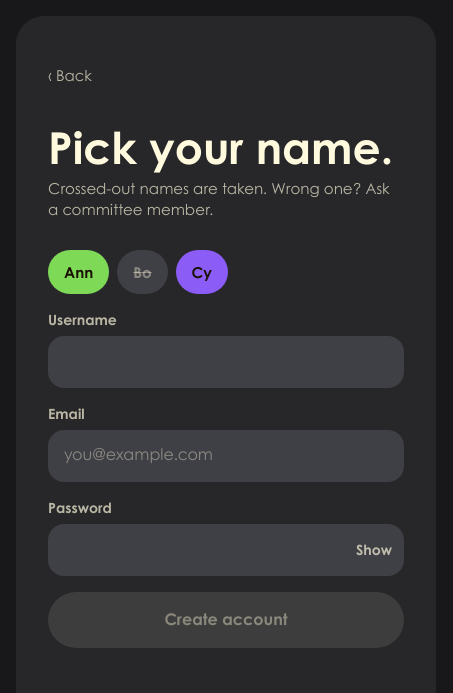
Test case: Signup rework › has no Step label, and the password has a Show/Hide toggle
Expected: the radio button labelled "Ann" is shown, [48,250,109,294]
Step 1. Click the button "Show" → {"x": 374, "y": 550}, box [344,528,404,572]
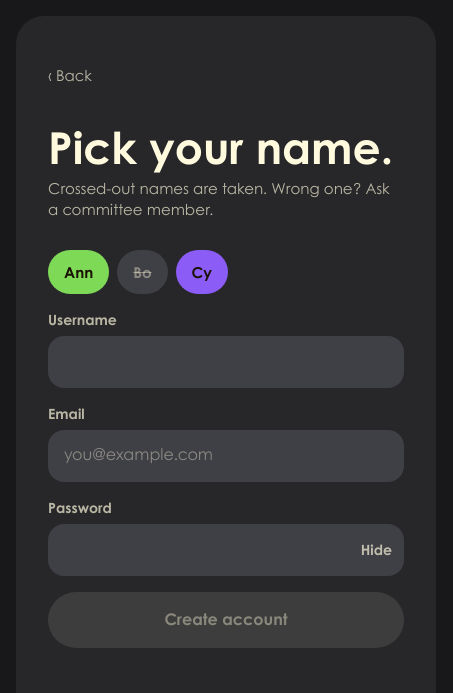
Expected: the button "Hide" is pressed, [349,528,404,572]
